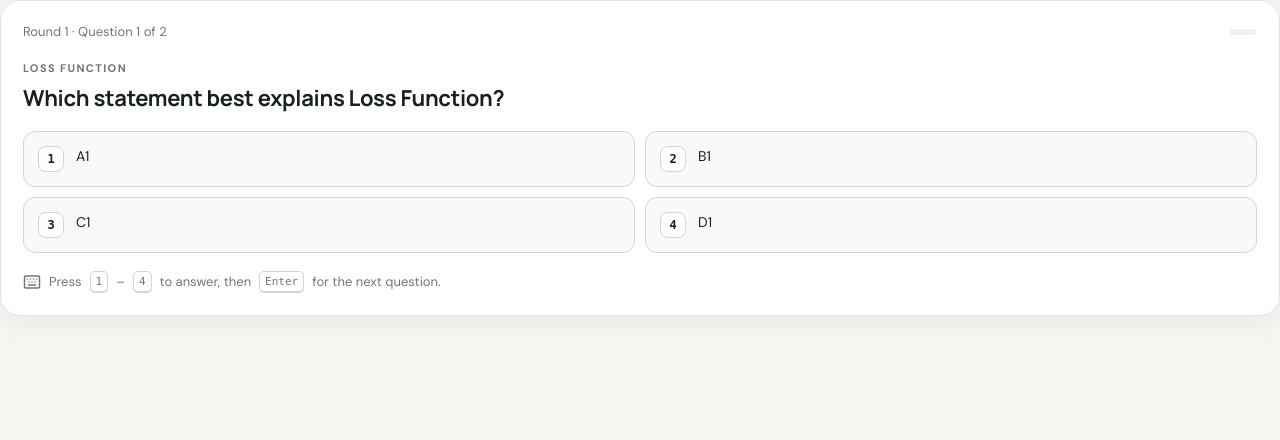
Test case: QuizPage › answers with number keys, shows the mastery change and ends with a round summary
Expected: the heading "Which statement best explains Loss Function?" is shown, [23,83,504,113]
Type keys "2"
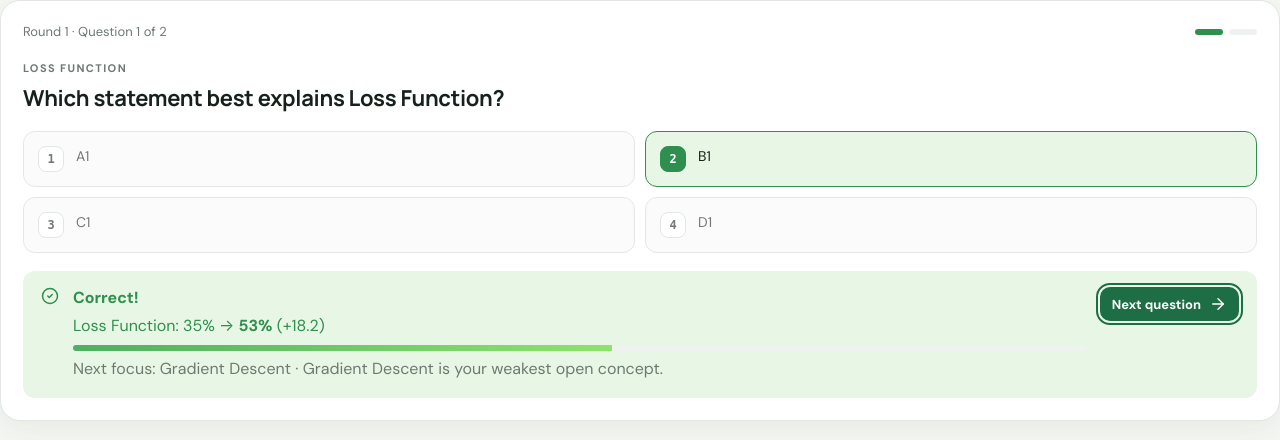
Now the text "Correct!" is shown, box [73,287,139,308]
Now the text "(+18.2)" is shown, box [277,315,325,336]
Note: The "Next question" button takes focus, so Enter moves on.
Press Enter
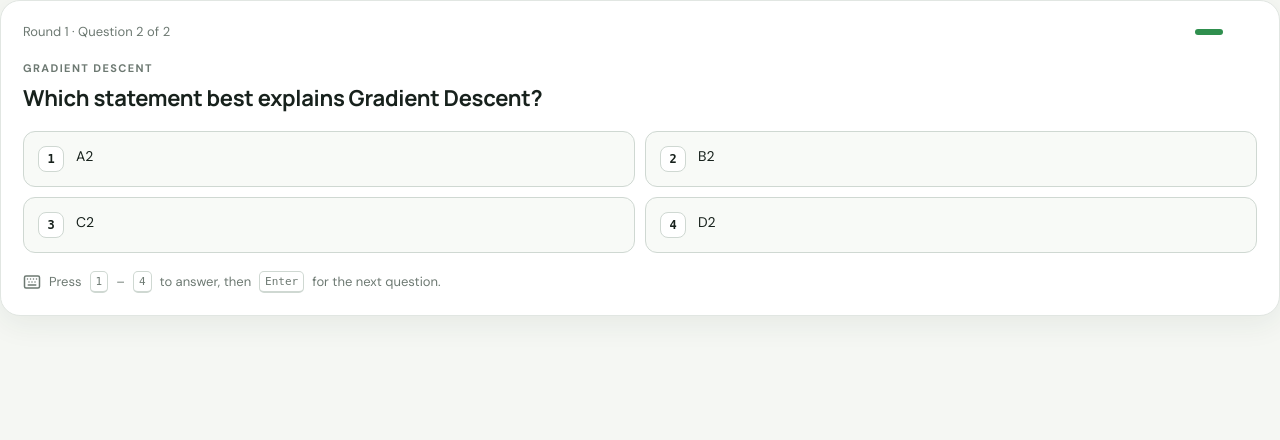
Now the heading "Which statement best explains Gradient Descent?" is shown, box [23,83,542,113]
Click the button "1 A2" at [51, 159], box [23,131,635,187]
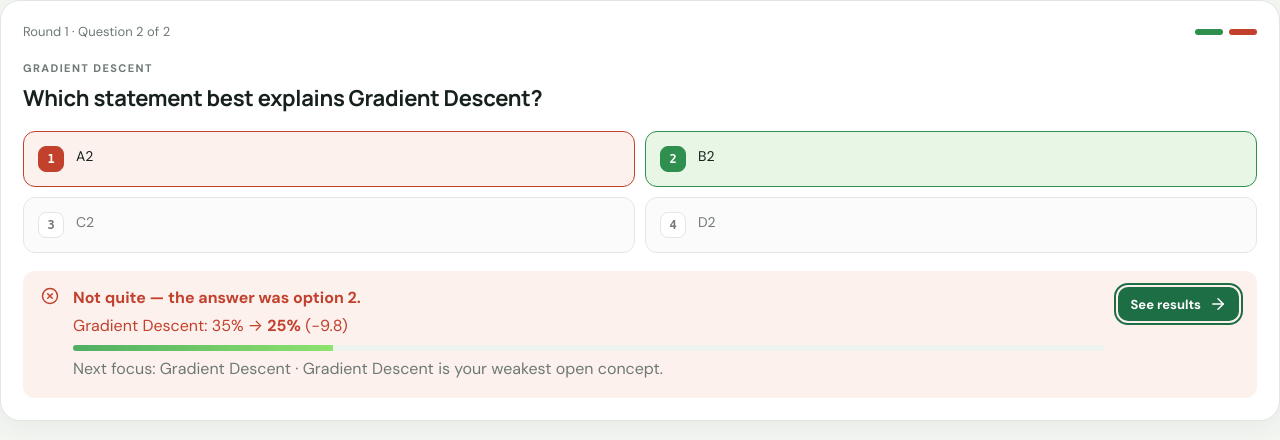
Now the text "Not quite — the answer was option 2." is shown, box [73,287,361,308]
Click the button "See results" at [1179, 304], box [1118,287,1239,321]
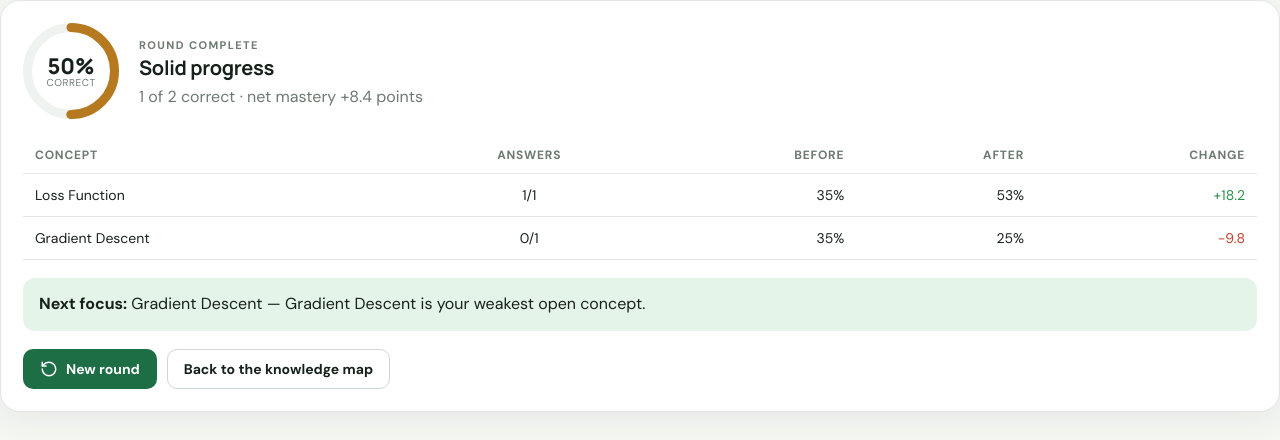
Now the heading "Solid progress" is shown, box [139,54,274,81]
Now the text "1 of 2 correct · net mastery +8.4 points" is shown, box [139,85,423,109]
Now the text "Gradient Descent is your weakest open concept" is shown, box [285,293,645,314]
